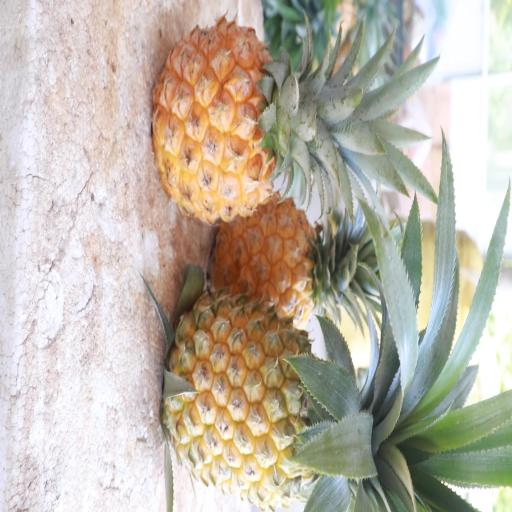Pineapple - v8 v1: (158, 282, 387, 512), (150, 16, 356, 228), (202, 194, 380, 330)
